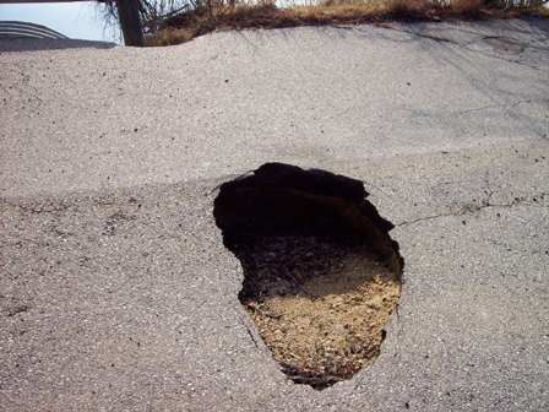pothole: (209, 158, 409, 391)
